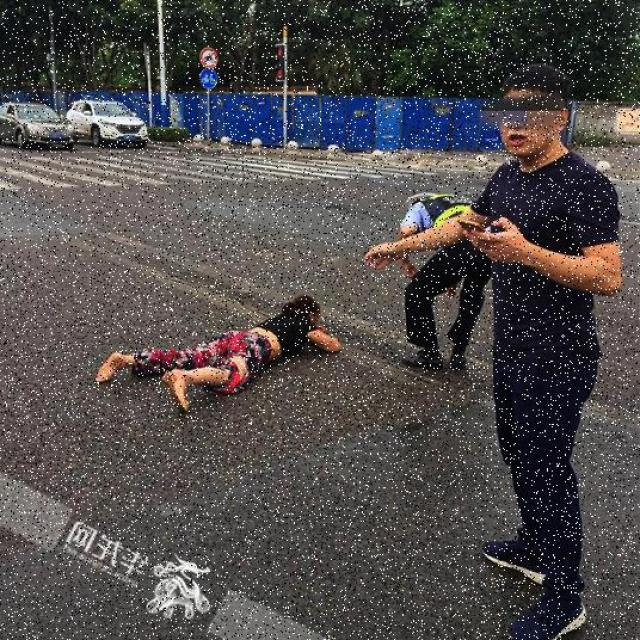fall: (111, 294, 333, 414)
